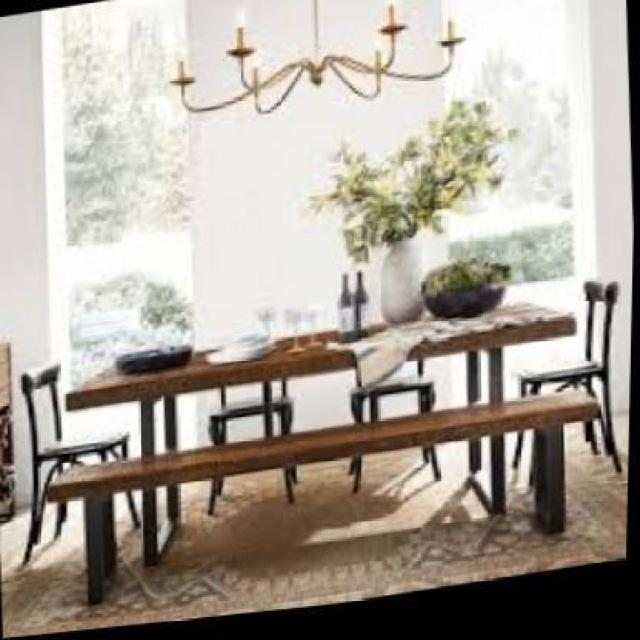tables: (59, 298, 578, 598)
